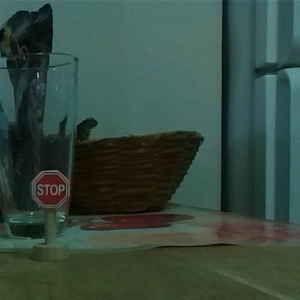stop sign: (27, 167, 74, 263)
